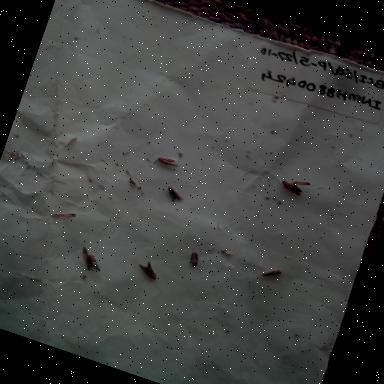pbw: (74, 249, 106, 278), (150, 148, 182, 175), (280, 173, 312, 199), (136, 257, 162, 282), (257, 262, 286, 284), (162, 184, 188, 207), (184, 246, 208, 270)
